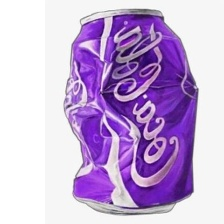can: (60, 6, 202, 218)
